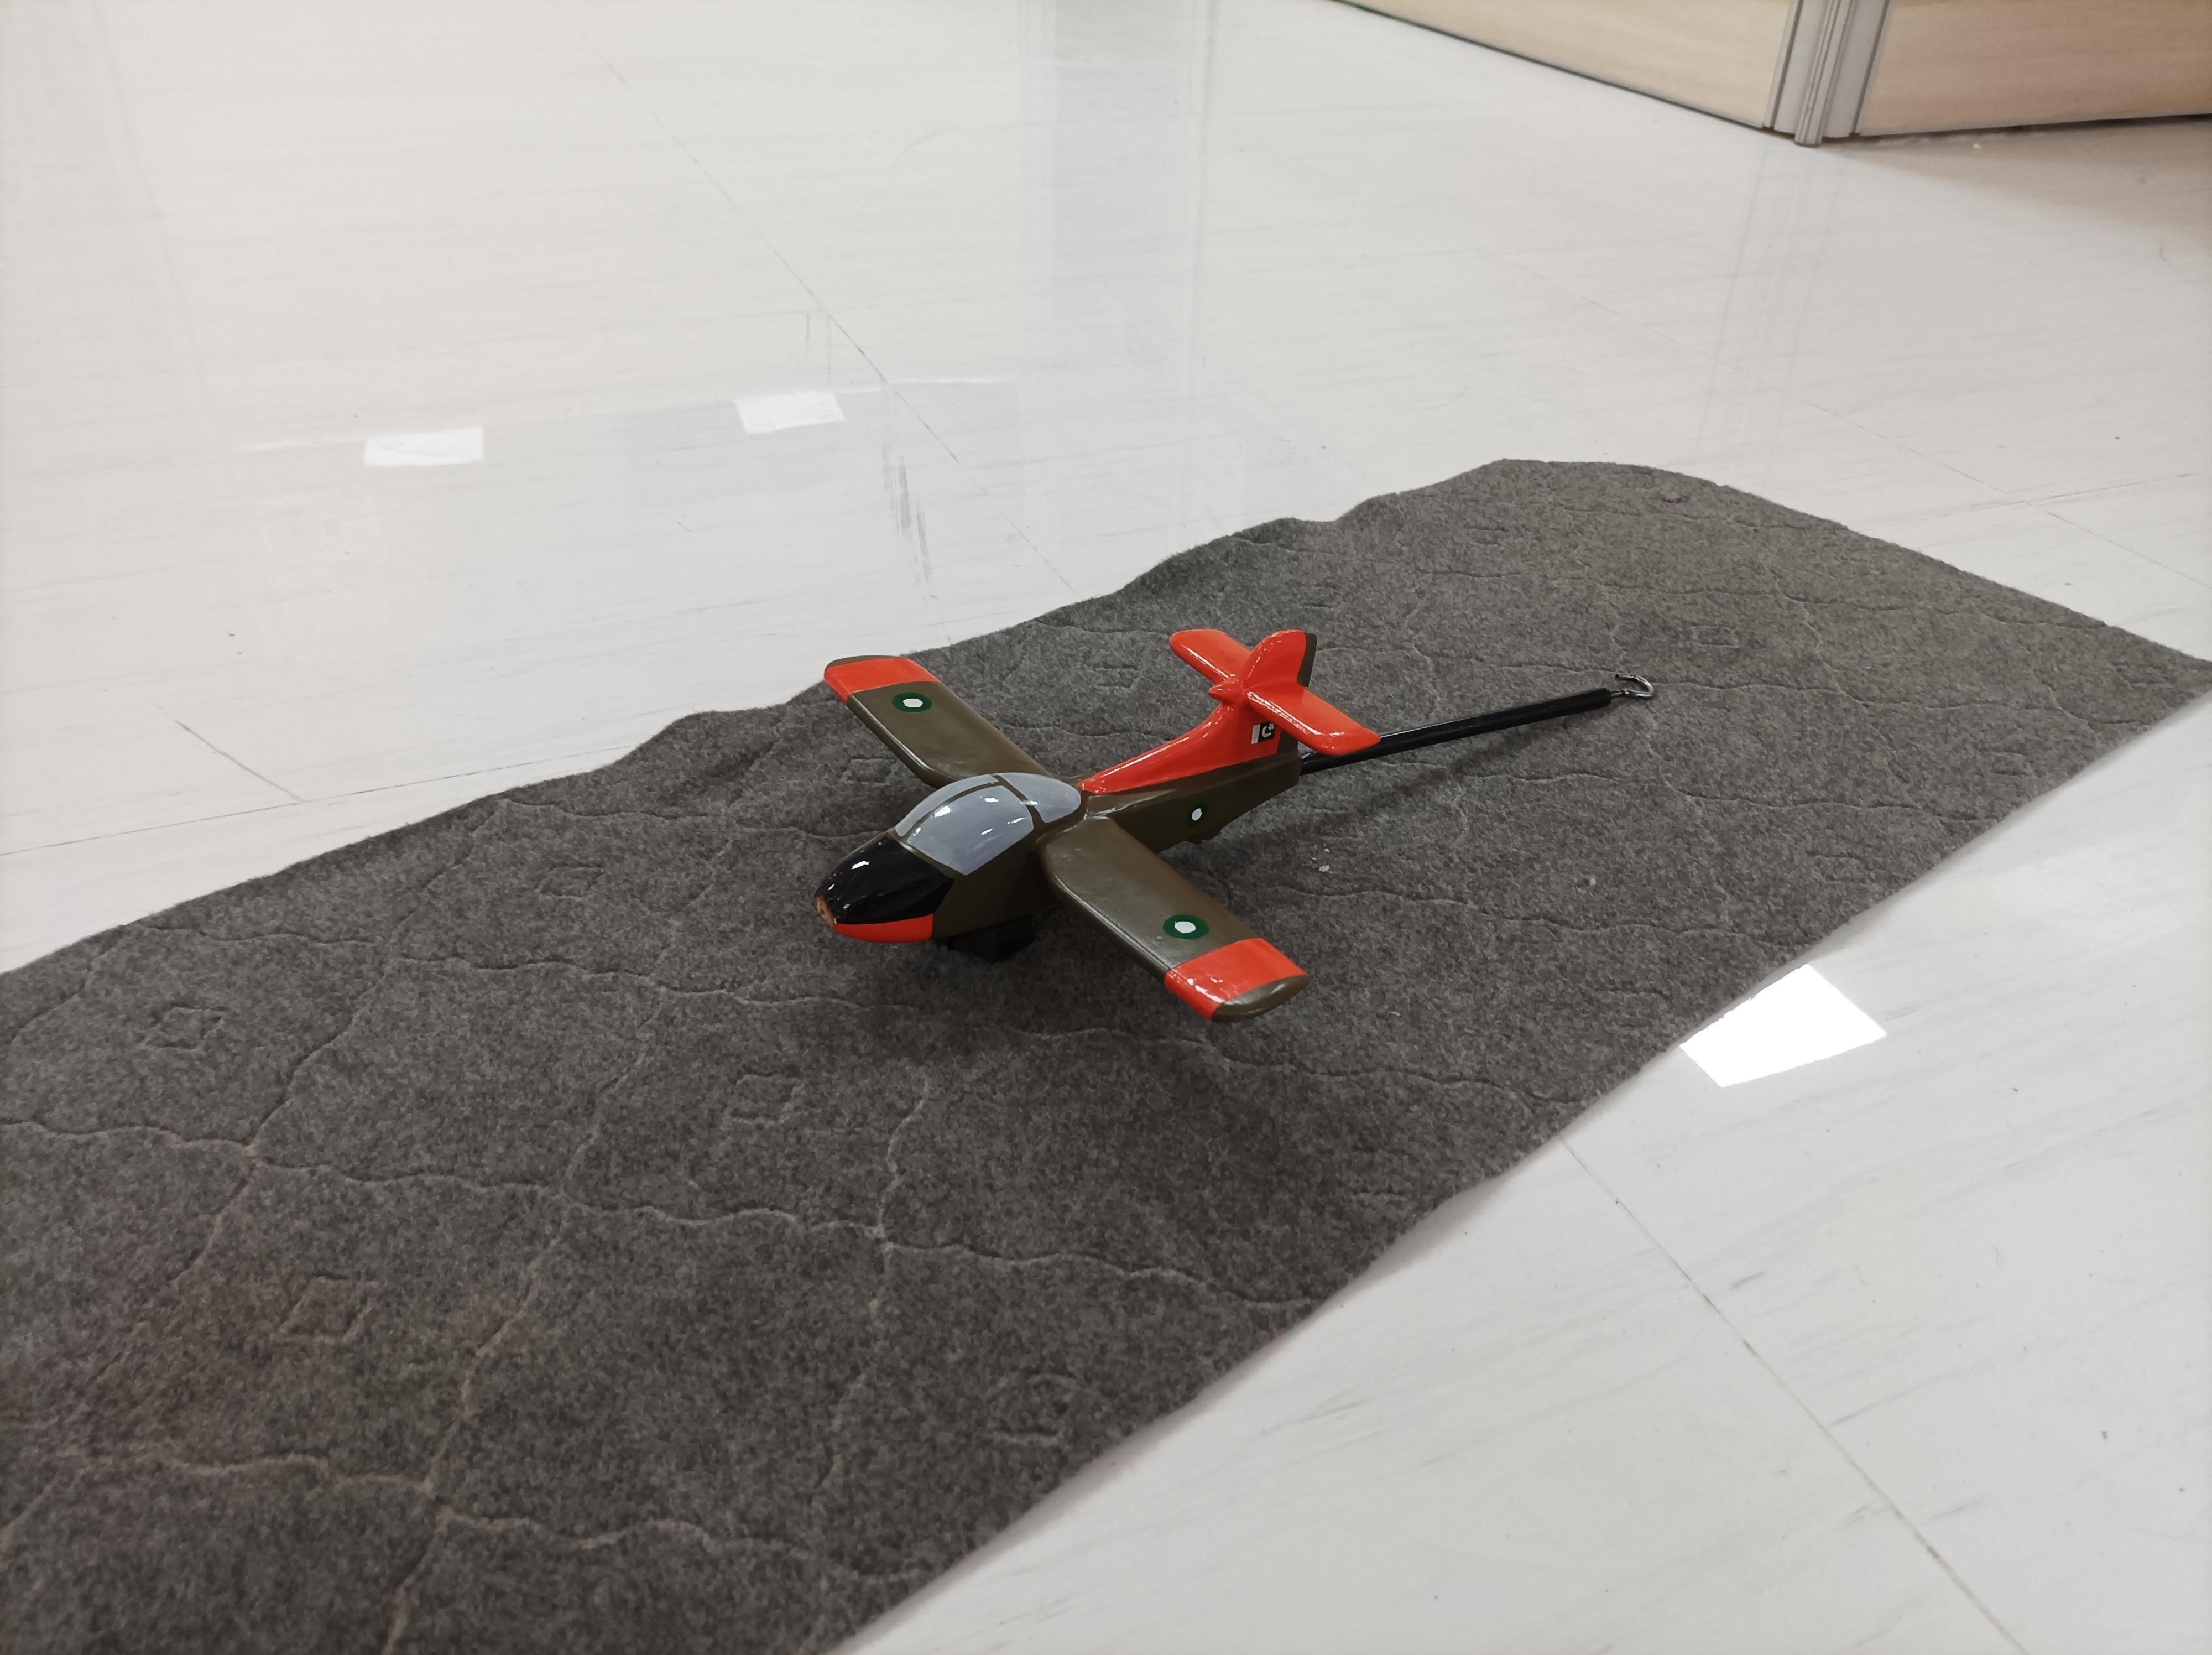Airplane: (818, 622, 1394, 1040)
